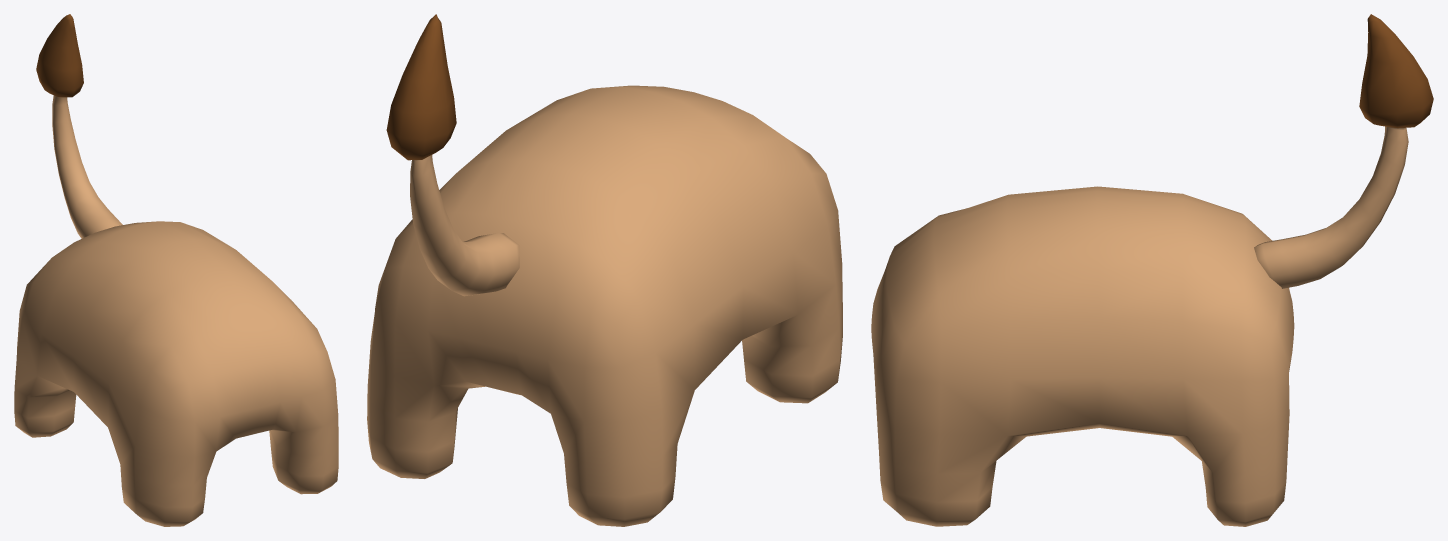
The model's file is oxbody.fbx.
3 renders of one model, left to right at view 1: azimuth 30°, elevation 25°; view 2: azimuth 150°, elevation 25°; view 3: azimuth 270°, elevation 25°, orthographic. The views are drawn at different scales.
Visible parts, largest first — view 1: ox_body; view 2: ox_body; view 3: ox_body.
Boxes of the visible parts, x1,y1,x2,y2 form: ox_body: (14,14,338,526); ox_body: (367,14,842,526); ox_body: (871,14,1433,526).
Size of the model in its own units: 37.53 by 64.63 by 71.21.
